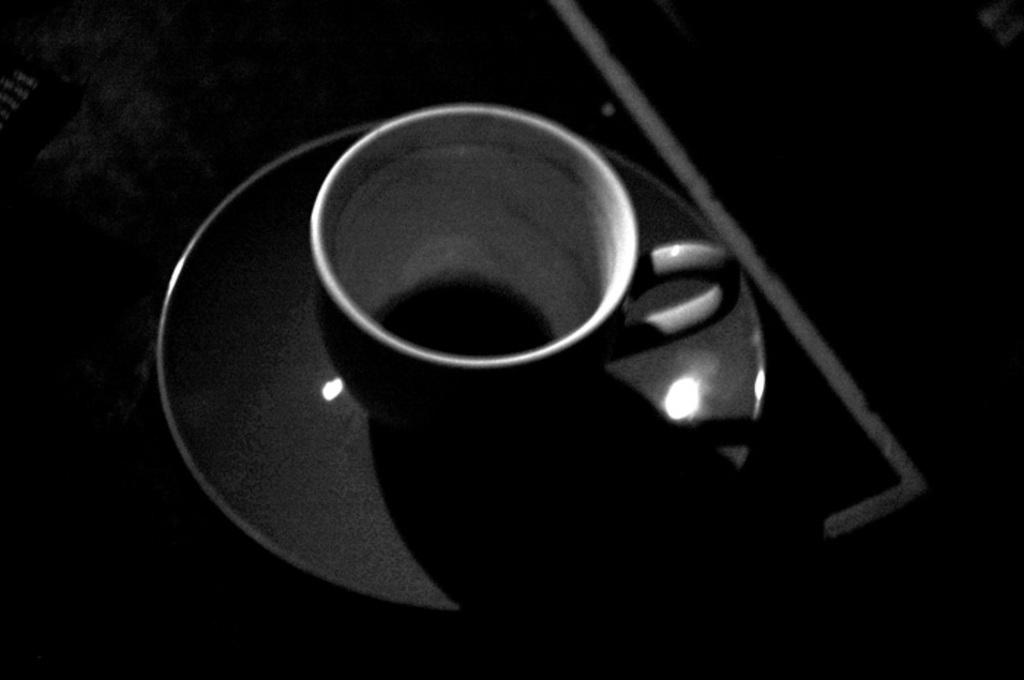Computer-keyboard: (3, 2, 1017, 676)
